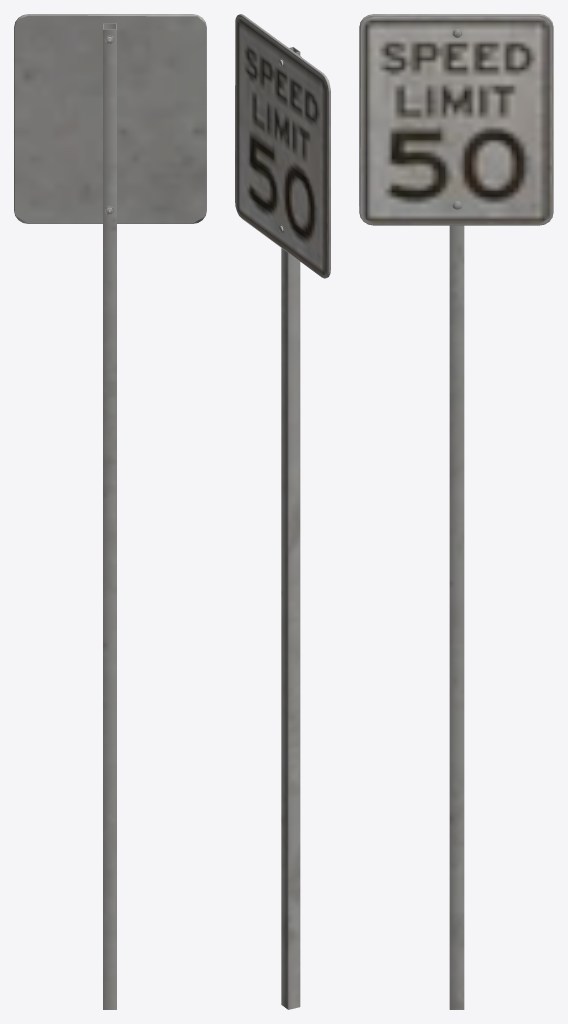
File: sign-speed.lod0.glb
The picture shows the model from 3 angles, left to right: view 1: azimuth 90°, elevation 25°; view 2: azimuth 210°, elevation 25°; view 3: azimuth 270°, elevation 25°; orthographic projection. The views are drawn at different scales.
Visible parts, largest first — view 1: speed_50_LOW_POLY_sign_0; view 2: speed_50_LOW_POLY_sign_0; view 3: speed_50_LOW_POLY_sign_0.
Boxes of the visible parts, x1,y1,x2,y2 form: speed_50_LOW_POLY_sign_0: [14, 14, 206, 1009]; speed_50_LOW_POLY_sign_0: [235, 14, 330, 1009]; speed_50_LOW_POLY_sign_0: [359, 14, 553, 1009].
Size of the model in its own units: 0.0606 by 2.6 by 0.4596.
Materials: 1 (1 with a texture image).
